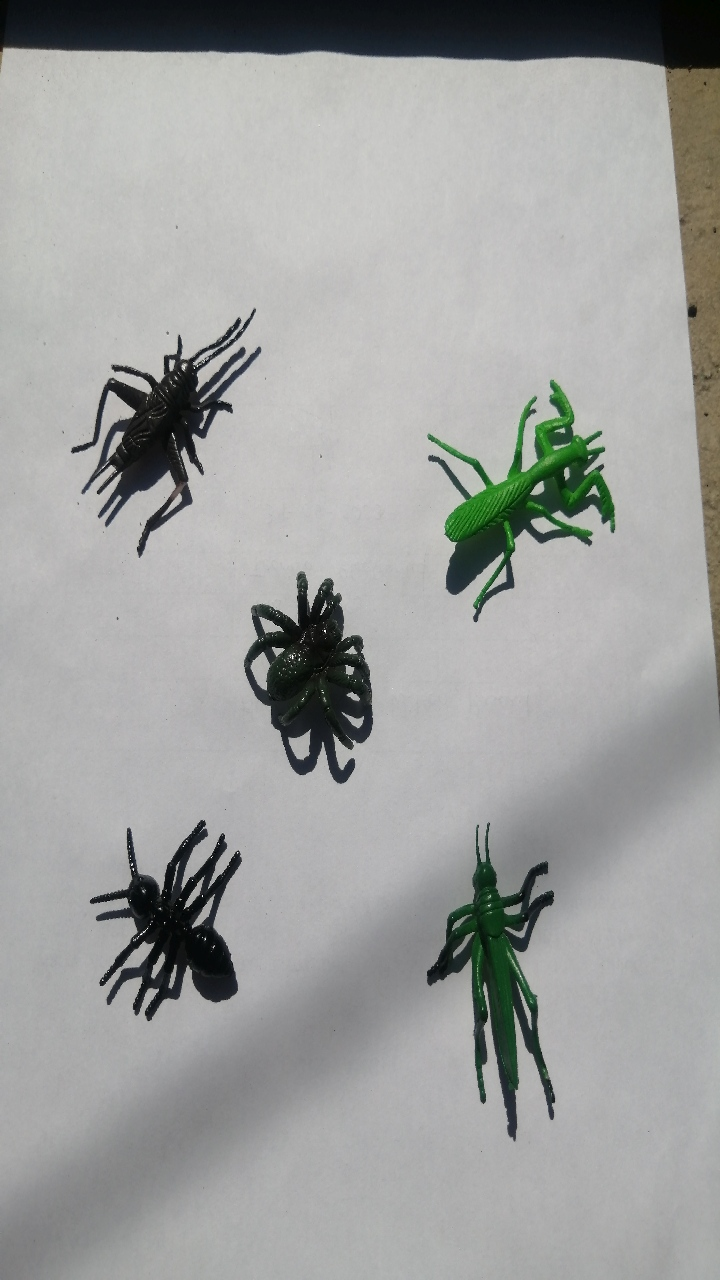intruso: (41, 262, 280, 557), (397, 788, 586, 1151), (403, 348, 652, 615), (43, 774, 274, 1029), (211, 535, 392, 799)
